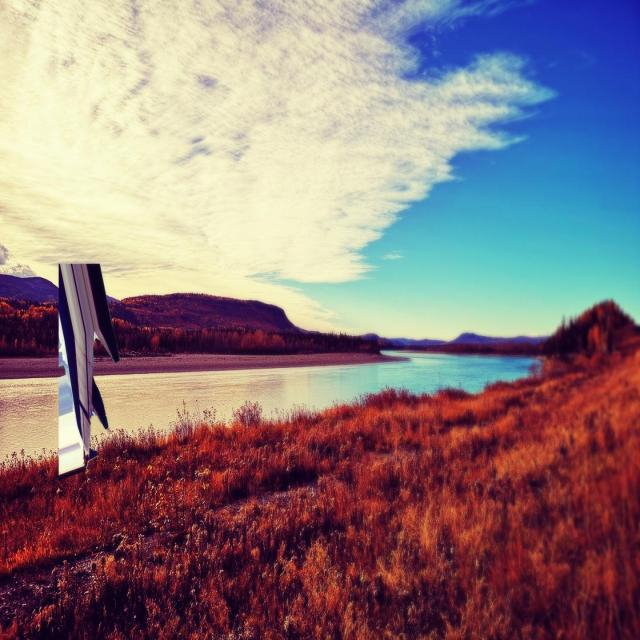airplane: (56, 262, 120, 478)
